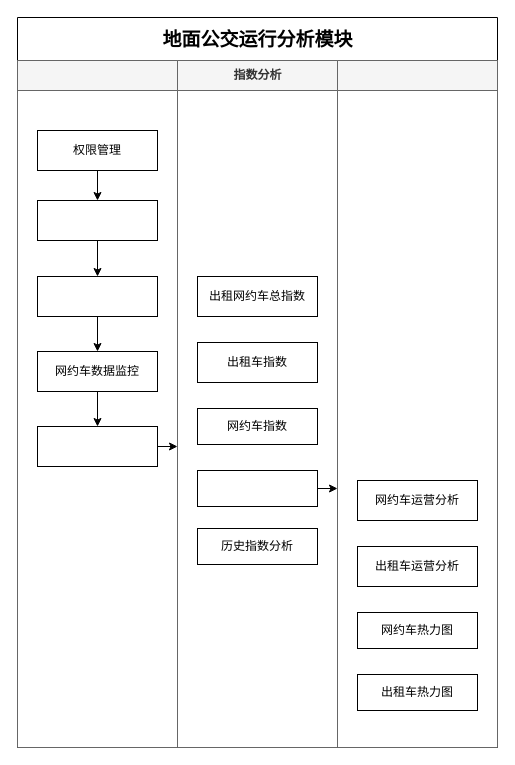
The diagram is 515 pixels wide and 765 high, and some of its shapes have lost their labels. The shapes that lost their labels are listed below. From the top down, each one's box as (x1, y1, x2, y2) in pixels, then its label:
(36, 200, 158, 240): 网站运行监控
(36, 276, 158, 316): 出租车数据监控
(16, 60, 178, 748): 数据处理
(336, 60, 498, 748): 场站客流
(36, 426, 158, 466): 数据分析
(196, 470, 318, 506): 服务指数
